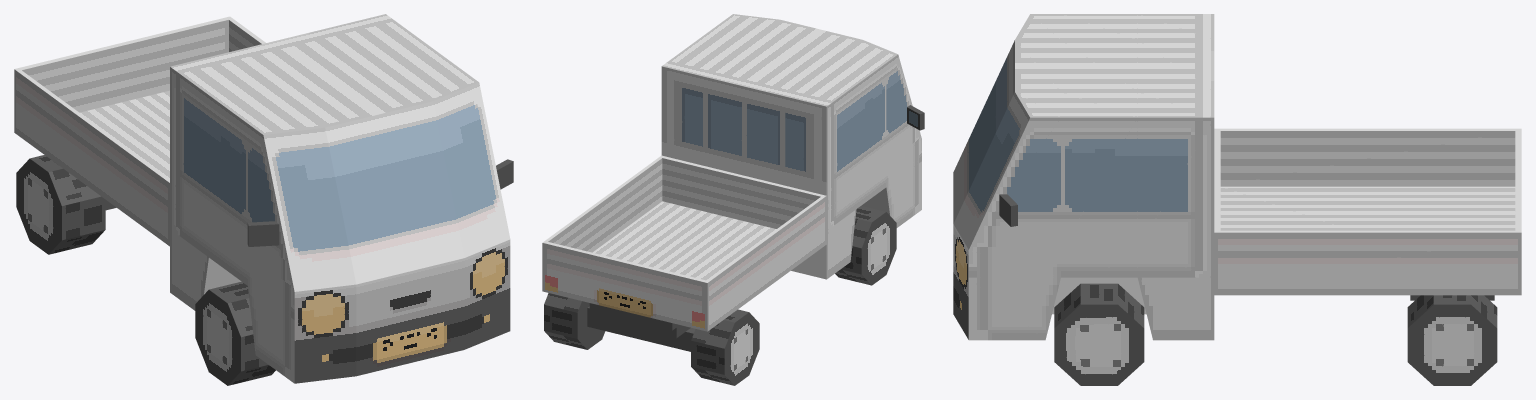
Rendered from kei_truck.glb.
3 renders of one model, left to right at view 1: azimuth 30°, elevation 25°; view 2: azimuth 150°, elevation 25°; view 3: azimuth 270°, elevation 25°, orthographic. The views are drawn at different scales.
Visible parts, largest first — view 1: Head_0, Box_1, cylinder_4, cylinder_5, cube_10; view 2: Head_0, Box_1, cylinder_4, cylinder_5, cylinder_3, cube_9, cube_7, cube_8, cube_10; view 3: Head_0, Box_1, cylinder_2, cylinder_3, cube_11.
Part boxes in pixels (x1,y1,x2,y2): Head_0: (170, 14, 510, 383); Box_1: (14, 16, 265, 246); cylinder_4: (16, 155, 105, 254); cylinder_5: (195, 281, 275, 385); cube_10: (247, 221, 279, 246); Head_0: (661, 14, 921, 279); Box_1: (542, 155, 826, 331); cylinder_4: (691, 309, 759, 385); cylinder_5: (835, 205, 896, 285); cylinder_3: (544, 293, 605, 349); cube_9: (587, 306, 695, 351); cube_7: (589, 303, 679, 330); cube_8: (594, 312, 690, 338); cube_10: (907, 105, 924, 130); Head_0: (953, 14, 1214, 340); Box_1: (1214, 128, 1521, 295); cylinder_2: (1054, 283, 1144, 385); cylinder_3: (1407, 295, 1497, 385); cube_11: (999, 194, 1017, 226).
Size of the model in its own units: 1.88 by 1.81 by 3.54.
3 materials, 3 textured.
